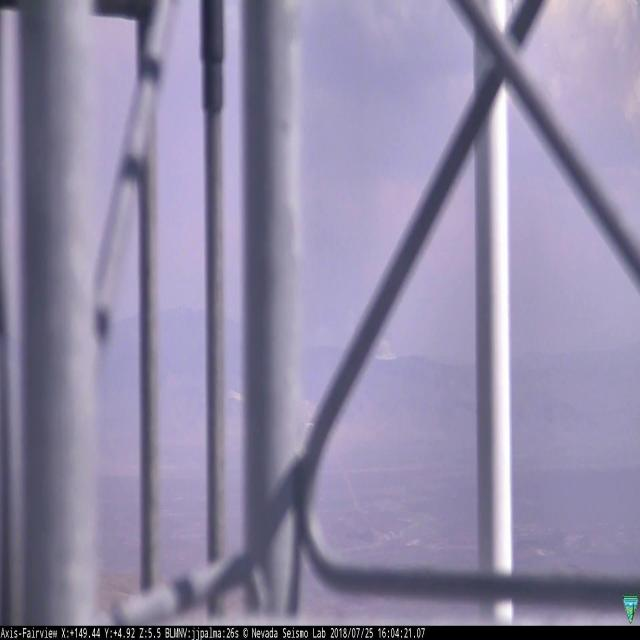smoke: (371, 335, 398, 358)
